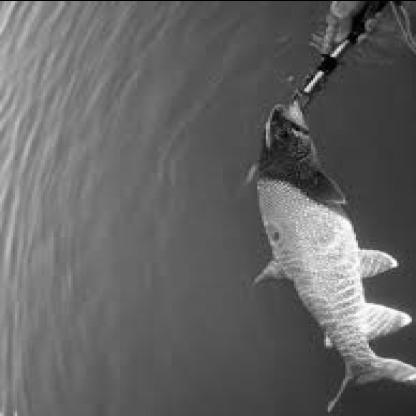fish: (246, 97, 410, 409)
